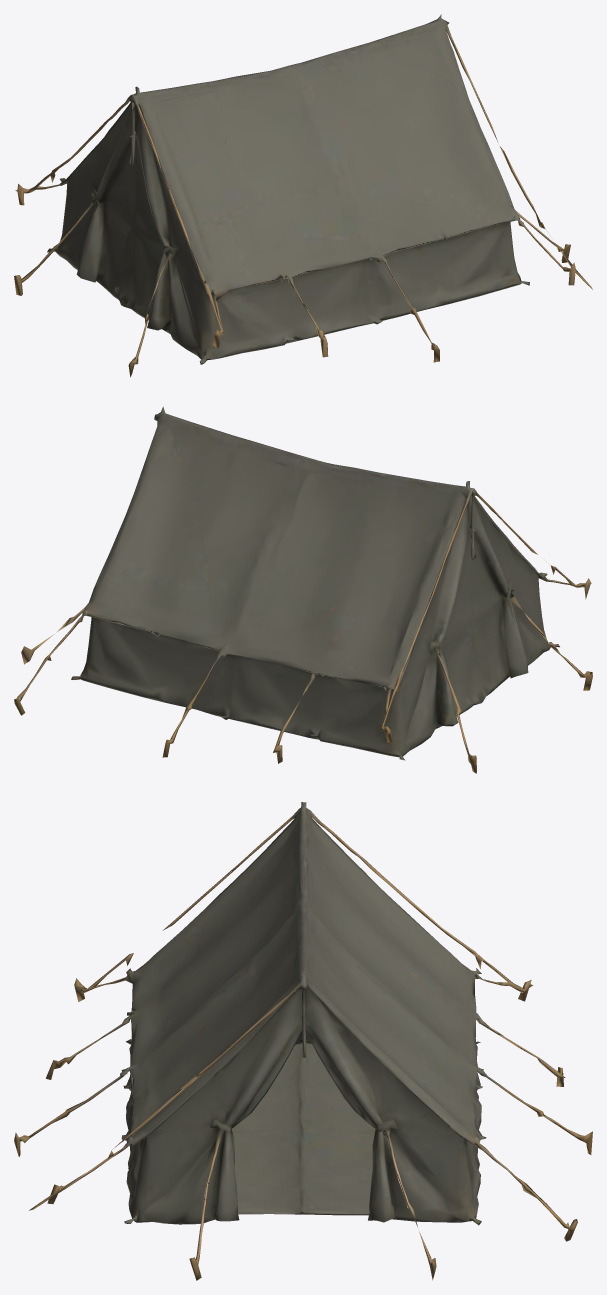
File: prop_tent.glb
The picture shows the model from 3 angles, top to bottom: view 1: azimuth 30°, elevation 25°; view 2: azimuth 150°, elevation 25°; view 3: azimuth 270°, elevation 25°; orthographic projection. The views are drawn at different scales.
Visible parts, largest first — view 1: tripo_node_27a1d494-2d36-4abe-af0e-3fb7a0d9afdf; view 2: tripo_node_27a1d494-2d36-4abe-af0e-3fb7a0d9afdf; view 3: tripo_node_27a1d494-2d36-4abe-af0e-3fb7a0d9afdf.
Boxes of the visible parts, left/top/right/bottom form: tripo_node_27a1d494-2d36-4abe-af0e-3fb7a0d9afdf: left=14, top=14, right=592, bottom=377; tripo_node_27a1d494-2d36-4abe-af0e-3fb7a0d9afdf: left=14, top=406, right=592, bottom=773; tripo_node_27a1d494-2d36-4abe-af0e-3fb7a0d9afdf: left=14, top=802, right=592, bottom=1280.
Size of the model in its own units: 1 by 0.4954 by 0.9776.
Materials: 1 (1 with a texture image).
